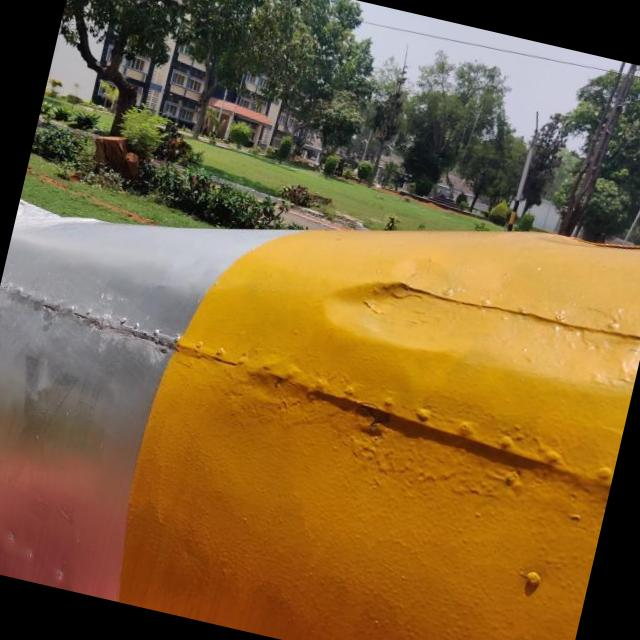Dent: (324, 282, 508, 363)
